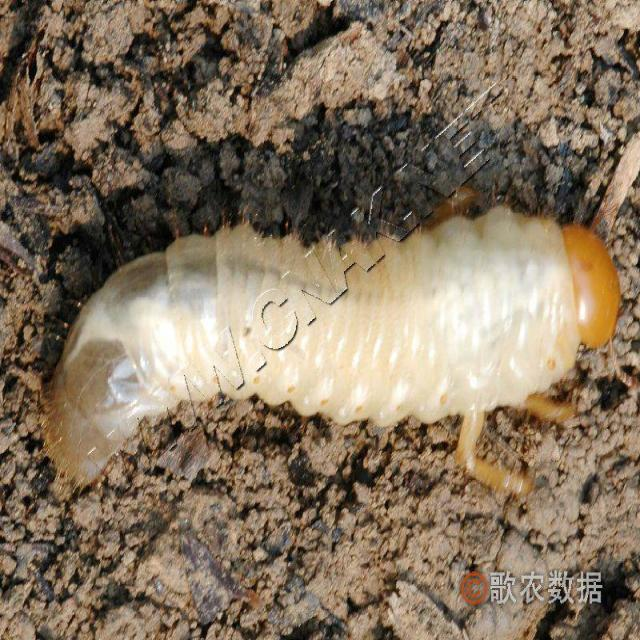Grub-Adult-: (31, 185, 625, 490)
